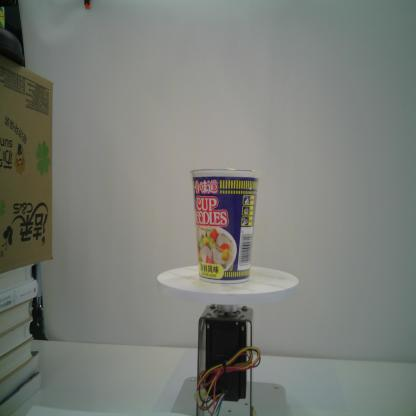Instant Noodles: (188, 167, 260, 285)
